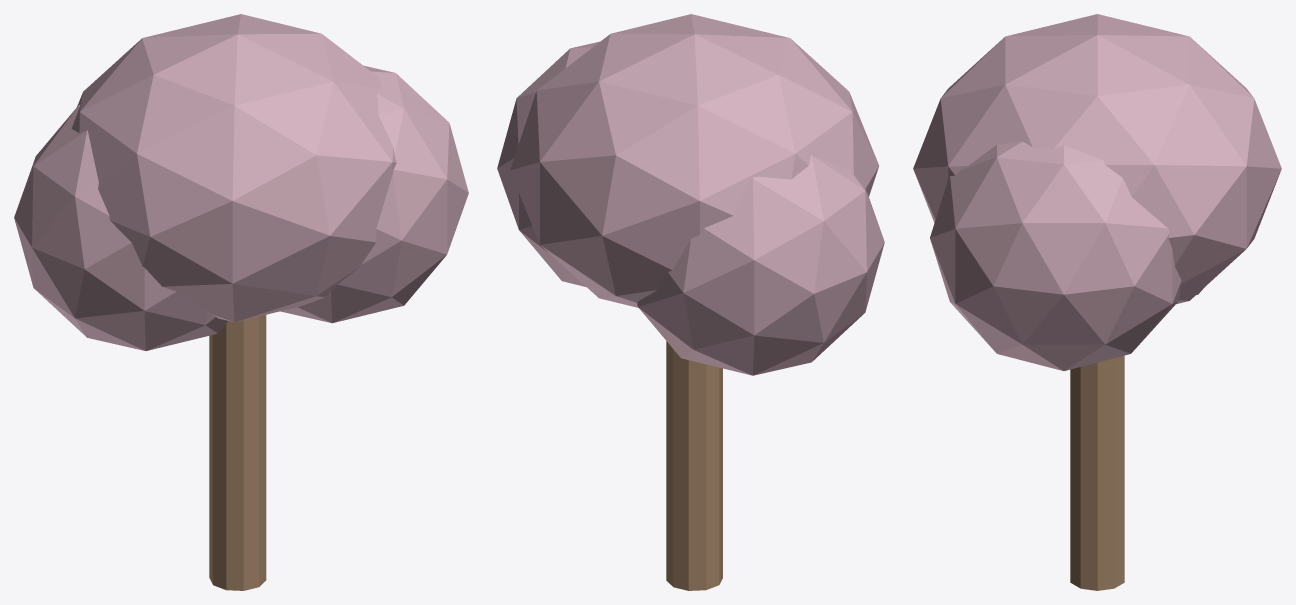
File: tree_flowering_edge.glb
The picture shows the model from 3 angles, left to right: view 1: azimuth 30°, elevation 25°; view 2: azimuth 150°, elevation 25°; view 3: azimuth 270°, elevation 25°; orthographic projection.
Parts seen in each view (by area): view 1: tree_flowering_edge_1, tree_flowering_edge_3, tree_flowering_edge_2, tree_flowering_edge_0; view 2: tree_flowering_edge_1, tree_flowering_edge_3, tree_flowering_edge_0, tree_flowering_edge_2; view 3: tree_flowering_edge_1, tree_flowering_edge_2, tree_flowering_edge_0.
Part boxes in pixels (left/top/right/bottom): tree_flowering_edge_1: left=71, top=14, right=396, bottom=322; tree_flowering_edge_3: left=14, top=105, right=227, bottom=350; tree_flowering_edge_2: left=280, top=65, right=468, bottom=323; tree_flowering_edge_0: left=209, top=315, right=266, bottom=590; tree_flowering_edge_1: left=510, top=14, right=878, bottom=307; tree_flowering_edge_3: left=636, top=155, right=884, bottom=375; tree_flowering_edge_0: left=666, top=341, right=722, bottom=590; tree_flowering_edge_2: left=497, top=41, right=599, bottom=286; tree_flowering_edge_1: left=913, top=14, right=1281, bottom=304; tree_flowering_edge_2: left=930, top=141, right=1181, bottom=370; tree_flowering_edge_0: left=1070, top=355, right=1124, bottom=590.
Size of the model in its own units: 2.65 by 3.58 by 2.2.
